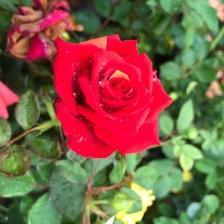rose: (53, 32, 171, 159)
